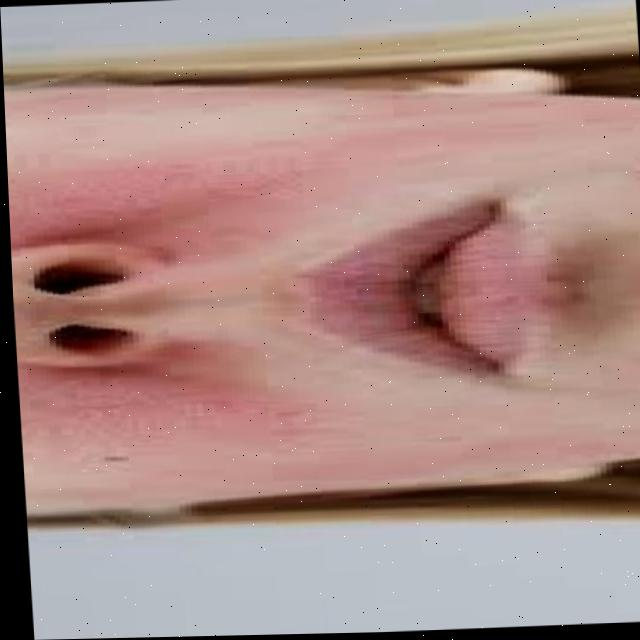Rosacea: (4, 83, 549, 254), (17, 352, 326, 489)
